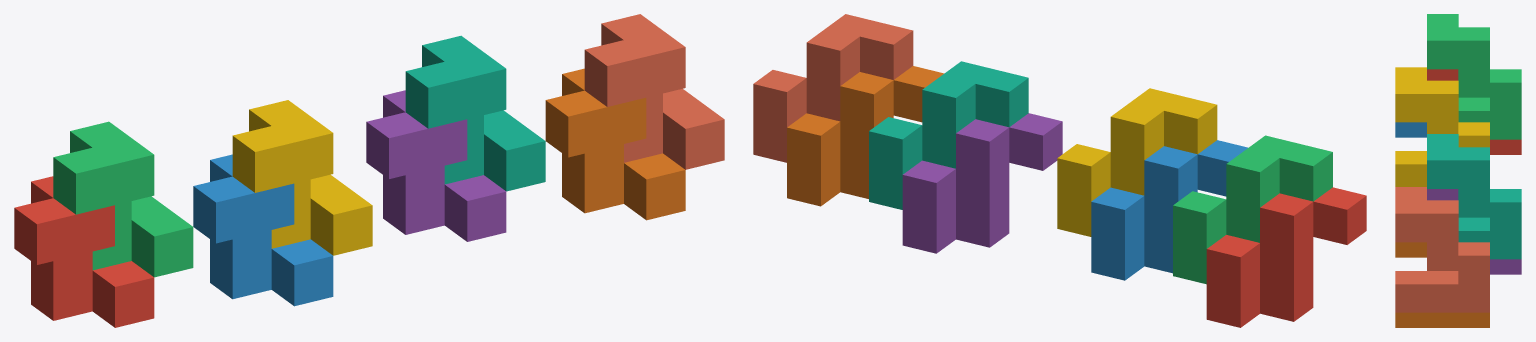
File: tiling.obj
3 views of the same model, side by side, from view 1: azimuth 30°, elevation 25°; view 2: azimuth 150°, elevation 25°; view 3: azimuth 270°, elevation 25° (orthographic). The views are drawn at different scales.
Visible parts, largest first — view 1: copy_1_domain_5, copy_1_domain_6, copy_1_domain_4, copy_1_domain_2, copy_1_domain_7, copy_1_domain_3, copy_1_domain_8, copy_1_domain_1; view 2: copy_1_domain_1, copy_1_domain_5, copy_1_domain_4, copy_1_domain_8, copy_1_domain_7, copy_1_domain_3, copy_1_domain_2, copy_1_domain_6; view 3: copy_1_domain_8, copy_1_domain_3, copy_1_domain_7, copy_1_domain_4, copy_1_domain_6, copy_1_domain_1, copy_1_domain_5, copy_1_domain_2.
Boxes of the visible parts, bbox=[...] form: copy_1_domain_5: bbox=[366, 90, 506, 241]; copy_1_domain_6: bbox=[545, 68, 685, 220]; copy_1_domain_4: bbox=[232, 100, 372, 255]; copy_1_domain_2: bbox=[193, 154, 333, 306]; copy_1_domain_7: bbox=[405, 35, 545, 191]; copy_1_domain_3: bbox=[53, 121, 193, 277]; copy_1_domain_8: bbox=[584, 14, 724, 169]; copy_1_domain_1: bbox=[14, 176, 154, 327]; copy_1_domain_1: bbox=[1206, 187, 1366, 327]; copy_1_domain_5: bbox=[902, 113, 1062, 253]; copy_1_domain_4: bbox=[1057, 88, 1217, 236]; copy_1_domain_8: bbox=[753, 14, 913, 162]; copy_1_domain_7: bbox=[869, 61, 1028, 209]; copy_1_domain_3: bbox=[1173, 135, 1332, 284]; copy_1_domain_2: bbox=[1091, 140, 1247, 280]; copy_1_domain_6: bbox=[787, 66, 944, 206]; copy_1_domain_8: bbox=[1395, 187, 1489, 312]; copy_1_domain_3: bbox=[1427, 14, 1521, 139]; copy_1_domain_7: bbox=[1427, 134, 1521, 259]; copy_1_domain_4: bbox=[1395, 67, 1489, 186]; copy_1_domain_6: bbox=[1395, 242, 1489, 327]; copy_1_domain_1: bbox=[1427, 69, 1521, 154]; copy_1_domain_5: bbox=[1427, 189, 1521, 274]; copy_1_domain_2: bbox=[1395, 122, 1426, 137].
Size of the model in its own units: 17 by 4 by 4.
